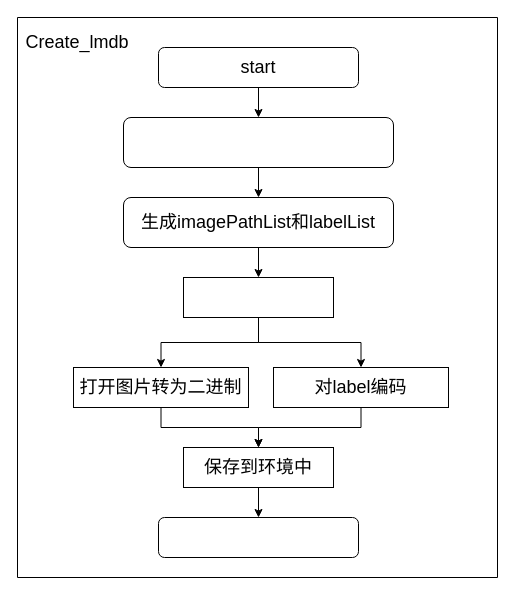
This 515x595 diagram has some shape labels left out. Each missing label, with the centre of its shape:
"end" goes at point 258,537.
"创建lmdb环境" goes at point 258,297.
"读“all.txt”文件 获取图片文件名和标签" goes at point 258,142.
